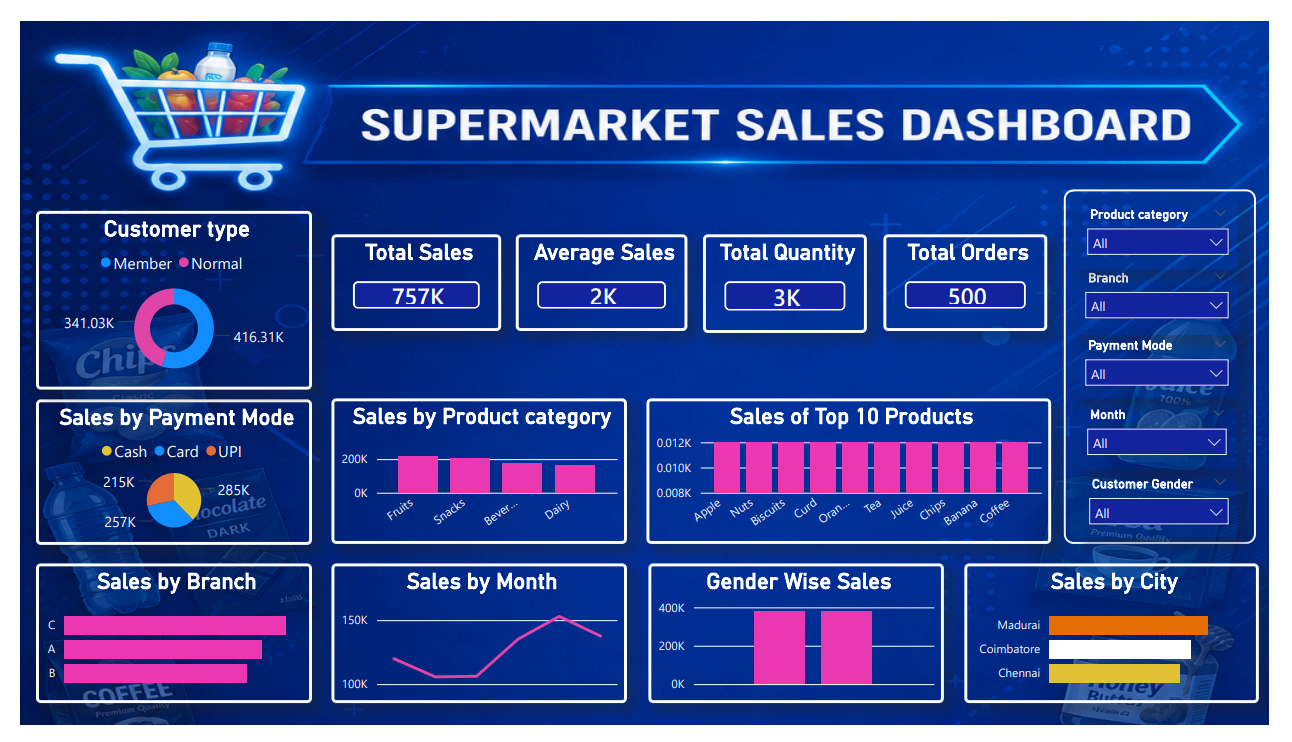

Layout of this report page (visuals, bound fields, positions):
{"tool":"powerbi","page":{"name":"Page 1","canvas":[1280,720],"ordinal":0},"visuals":[{"type":"shape","box":[1069.7,172.2,197.6,362.6],"z":0},{"type":"cardVisual","title":"Total Sales","fields":{"Data":["Sheet.Total Sales"]},"box":[319.1,217.6,174.1,99.7],"z":1000},{"type":"cardVisual","title":"Total Quantity","fields":{"Data":["Sheet.Total Sold Quantity"]},"box":[699.8,217.6,168.6,101.5],"z":2000},{"type":"cardVisual","title":"Total Orders","fields":{"Data":["Sheet.Total Orders"]},"box":[884.8,217.6,168.6,99.7],"z":3000},{"type":"cardVisual","title":"Average Sales","fields":{"Data":["Sheet.Average Sales"]},"box":[507.6,217.6,175.9,99.7],"z":4000},{"type":"columnChart","title":"Sales by Product category","fields":{"Category":["Sheet.Product category"],"Y":["Sheet.Total Sales"]},"box":[319.1,386.2,302.8,148.7],"z":6000},{"type":"barChart","title":"Sales by Branch","fields":{"Category":["Sheet.Branch"],"Y":["Sheet.Total Sales"]},"box":[15.6,554.6,283.4,143.4],"z":7000},{"type":"barChart","title":"Sales by City","fields":{"Category":["Sheet.City"],"Y":["Sheet.Total Sales"]},"box":[967.6,554.6,302.4,143.4],"z":8000},{"type":"pieChart","title":"Sales by Payment Mode","fields":{"Category":["Sheet.Payment Mode"],"Y":["Sheet.Total Sales"]},"box":[15.6,387,283.4,148.6],"z":9000},{"type":"donutChart","title":"Customer type","fields":{"Category":["Sheet.Customer type"],"Y":["Sheet.Total Sales"]},"box":[16.3,194,282.8,183.1],"z":10000},{"type":"columnChart","title":"Gender Wise Sales","fields":{"Category":["Sheet.Customer Gender"],"Y":["Sheet.Total Sales"]},"box":[644.5,554.6,302.4,143.4],"z":11000},{"type":"lineChart","title":"Sales by Month","fields":{"Category":["Sheet.Date.Variation.Date Hierarchy.Month"],"Y":["Sheet.Total Sales"]},"box":[319.1,554.8,302.8,143.2],"z":12000},{"type":"columnChart","title":"Sales of Top 10 Products ","fields":{"Y":["Sheet.Total Sales"],"Category":["Sheet.Product"]},"box":[641.8,386.2,415.2,148.7],"z":13000},{"type":"slicer","fields":{"Values":["Sheet.Branch"]},"box":[1082.4,250.2,166.8,70.7],"z":14000},{"type":"slicer","fields":{"Values":["Sheet.Month"]},"box":[1084.2,389.8,163.2,68.9],"z":15000},{"type":"slicer","fields":{"Values":["Sheet.Product category"]},"box":[1084.2,184.9,165,68.9],"z":16000},{"type":"slicer","fields":{"Values":["Sheet.Customer Gender"]},"box":[1086,460.5,163.2,68.9],"z":17000},{"type":"slicer","fields":{"Values":["Sheet.Payment Mode"]},"box":[1082.4,319.1,166.8,67.1],"z":18000}]}

Visuals, with their boxes in screenshot pixels (x1, y1, x2, y2), scaled from the page's 1280x720 canvas onto the 1292x742 screenshot:
shape: [x1=1080, y1=177, x2=1279, y2=551]
"Total Sales" cardVisual: [x1=322, y1=224, x2=498, y2=327]
"Total Quantity" cardVisual: [x1=706, y1=224, x2=877, y2=329]
"Total Orders" cardVisual: [x1=893, y1=224, x2=1063, y2=327]
"Average Sales" cardVisual: [x1=512, y1=224, x2=690, y2=327]
"Sales by Product category" columnChart: [x1=322, y1=398, x2=628, y2=551]
"Sales by Branch" barChart: [x1=16, y1=572, x2=302, y2=719]
"Sales by City" barChart: [x1=977, y1=572, x2=1282, y2=719]
"Sales by Payment Mode" pieChart: [x1=16, y1=399, x2=302, y2=552]
"Customer type" donutChart: [x1=16, y1=200, x2=302, y2=389]
"Gender Wise Sales" columnChart: [x1=651, y1=572, x2=956, y2=719]
"Sales by Month" lineChart: [x1=322, y1=572, x2=628, y2=719]
"Sales of Top 10 Products " columnChart: [x1=648, y1=398, x2=1067, y2=551]
slicer - Sheet.Branch: [x1=1093, y1=258, x2=1261, y2=331]
slicer - Sheet.Month: [x1=1094, y1=402, x2=1259, y2=473]
slicer - Sheet.Product category: [x1=1094, y1=191, x2=1261, y2=262]
slicer - Sheet.Customer Gender: [x1=1096, y1=475, x2=1261, y2=546]
slicer - Sheet.Payment Mode: [x1=1093, y1=329, x2=1261, y2=398]
